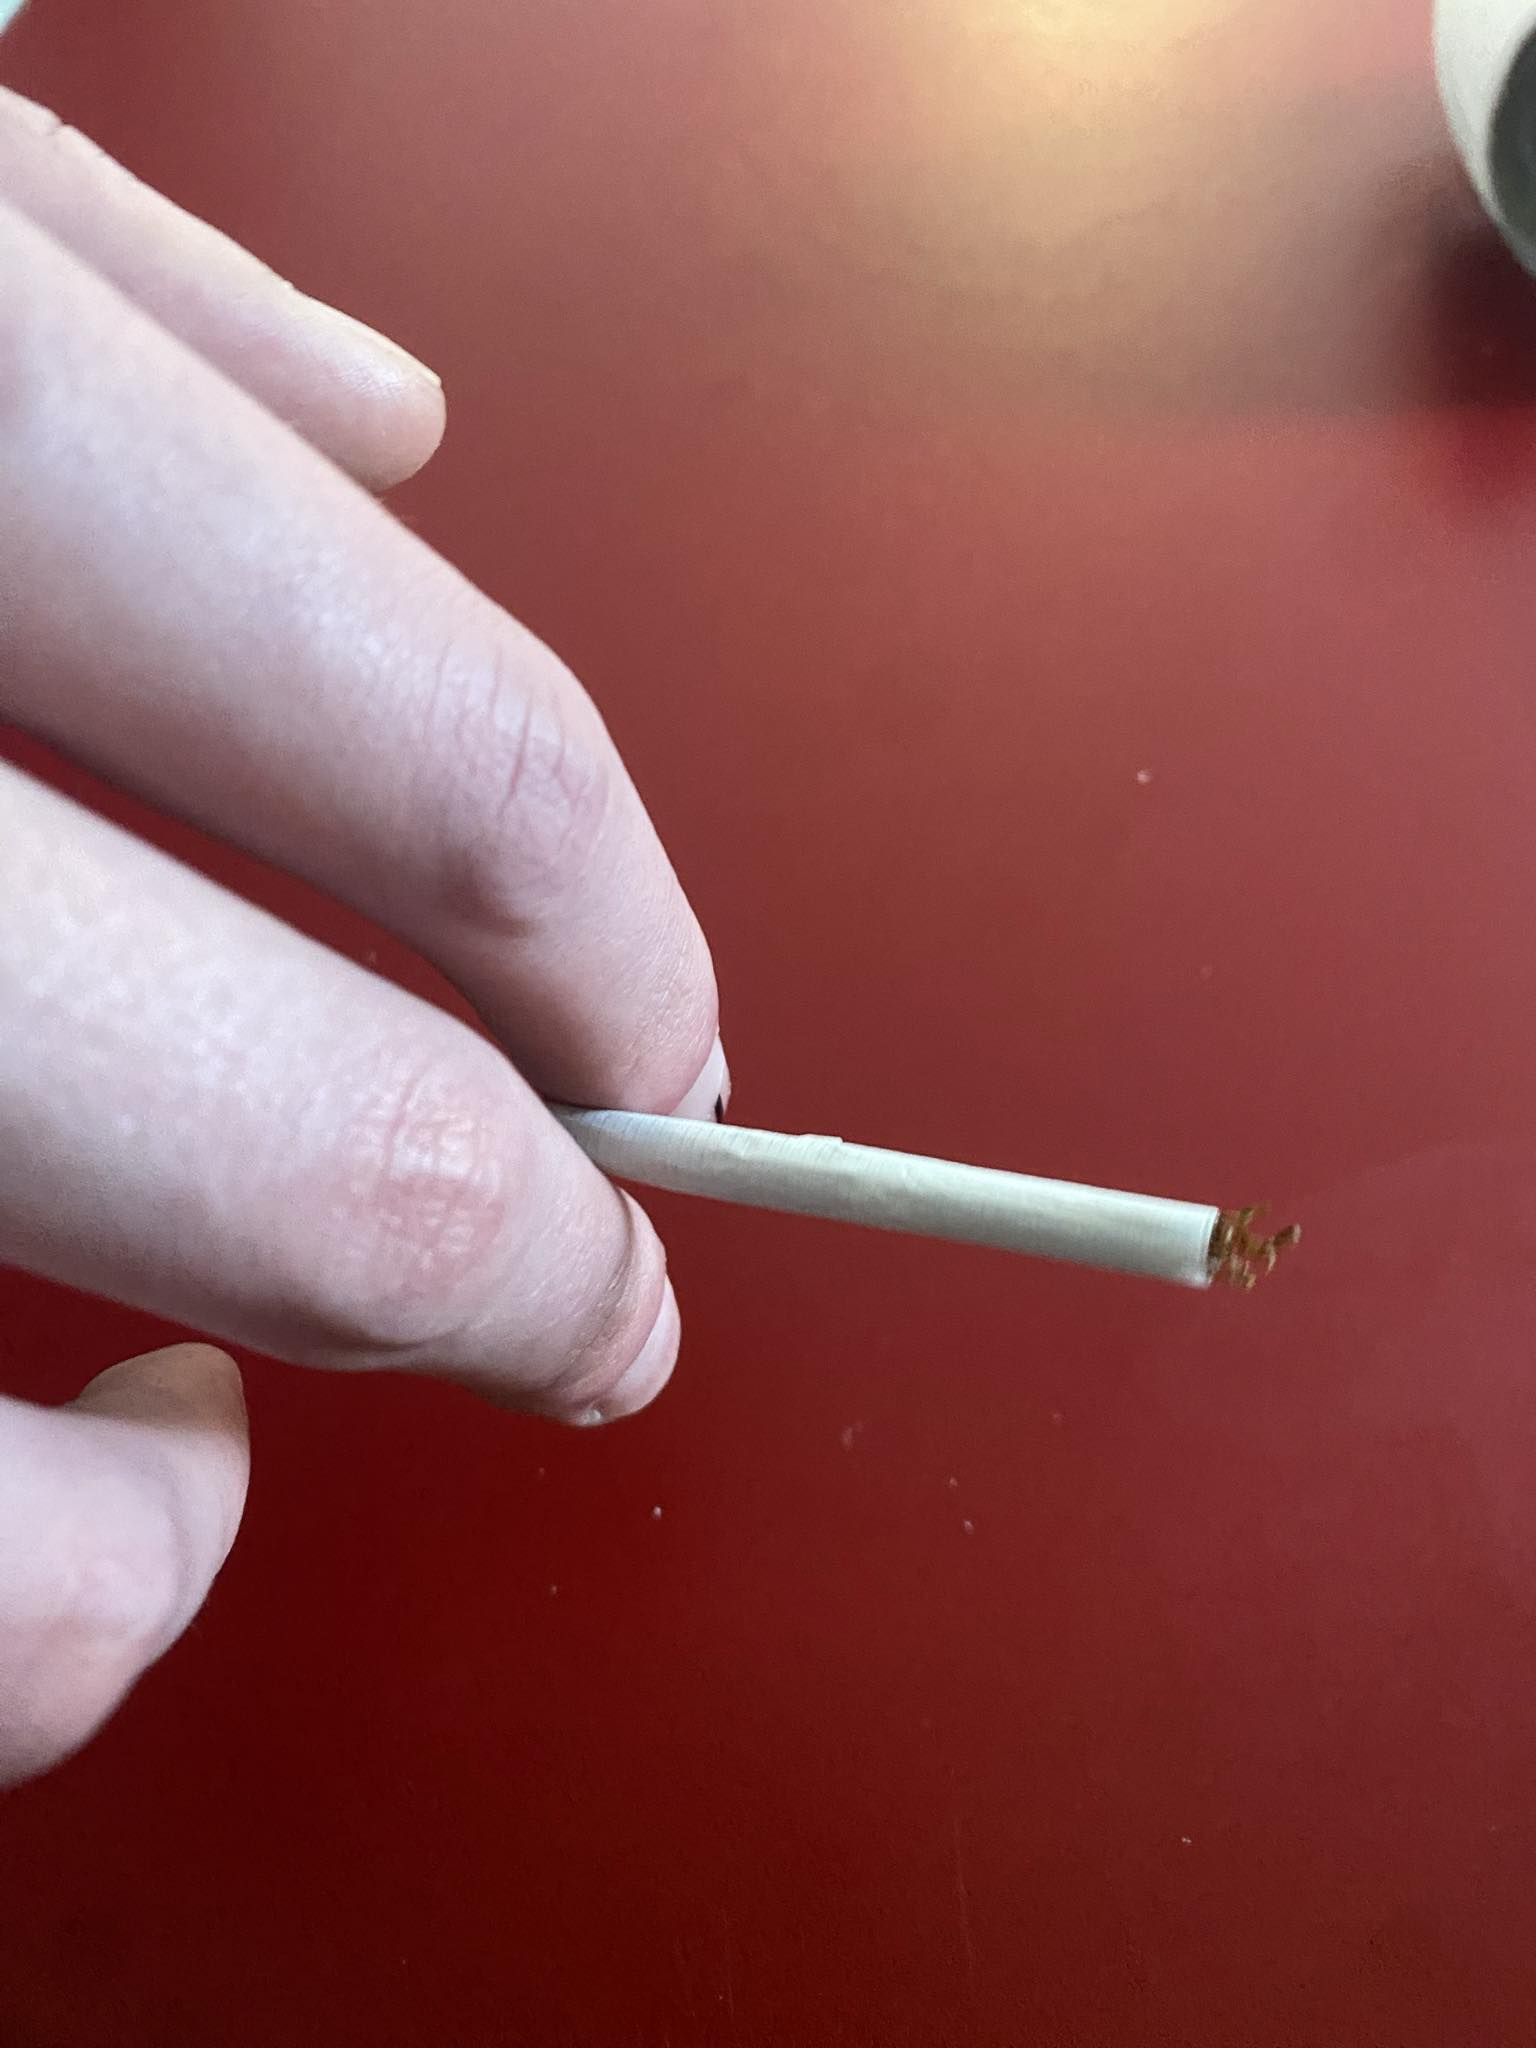Cigarette: (545, 1098, 1305, 1300)
